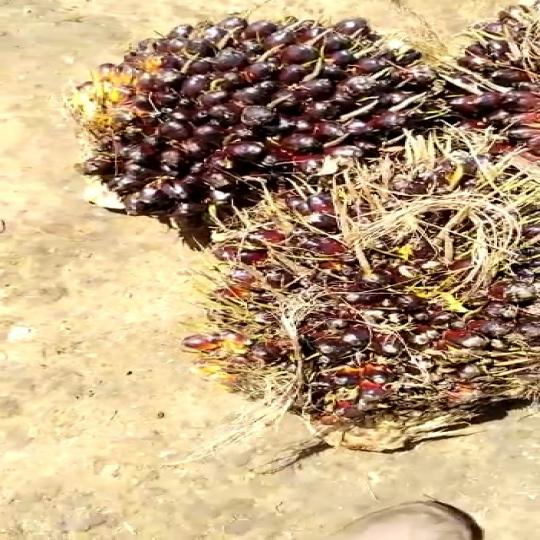mentah: (187, 110, 528, 470), (77, 9, 510, 231)
